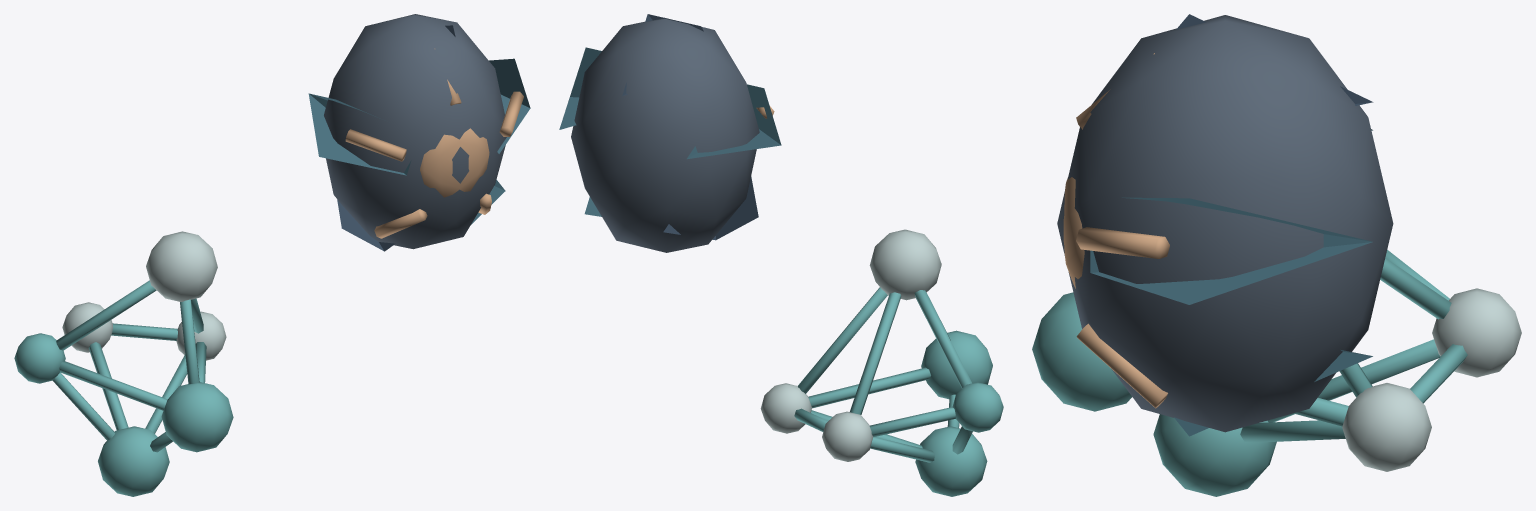
File: ART-61.glb
3 renders of one model, left to right at view 1: azimuth 30°, elevation 25°; view 2: azimuth 150°, elevation 25°; view 3: azimuth 270°, elevation 25°, orthographic. The views are drawn at different scales.
Parts seen in each view (by area): view 1: world; view 2: world; view 3: world.
Boxes of the visible parts, x1=… form: world: x1=14, y1=14, x2=530, y2=496; world: x1=559, y1=14, x2=1003, y2=496; world: x1=1032, y1=14, x2=1521, y2=496.
Bounding box in the file's own units: 2 × 1.65 × 1.03.
